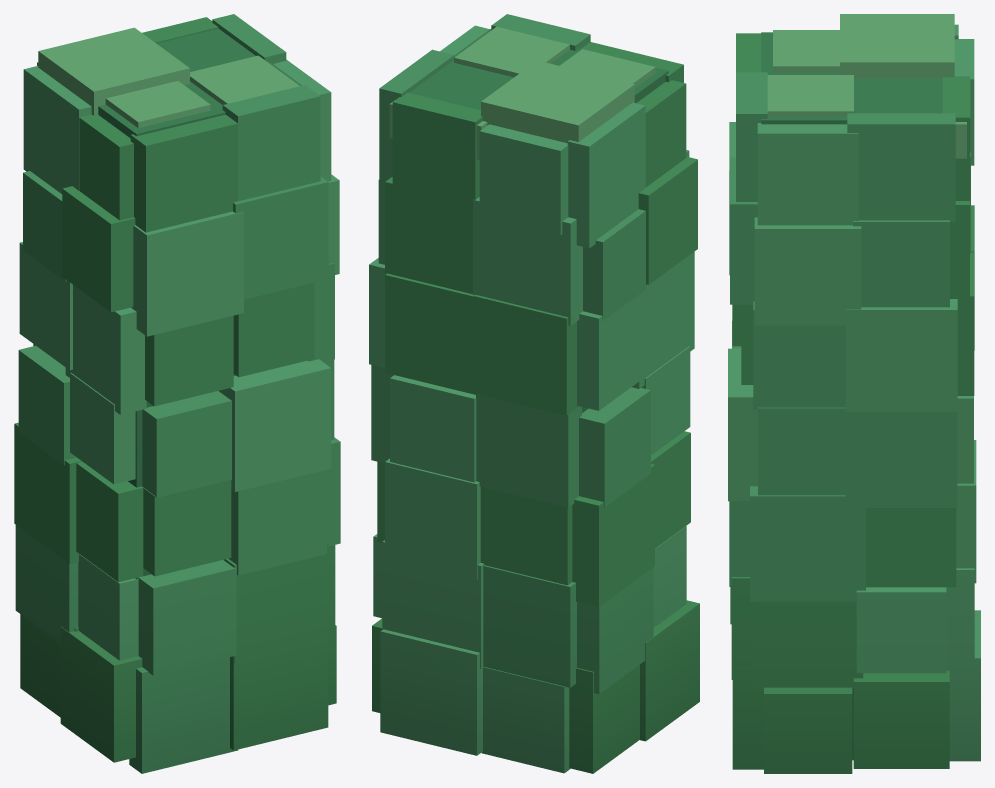
The model's file is hedge-post-h3.4.glb.
The picture shows the model from 3 angles, left to right: view 1: azimuth 30°, elevation 25°; view 2: azimuth 150°, elevation 25°; view 3: azimuth 270°, elevation 25°; orthographic projection. The views are drawn at different scales.
Parts seen in each view (by area): view 1: hedge-post-h3.4_body; view 2: hedge-post-h3.4_body; view 3: hedge-post-h3.4_body.
Part boxes in pixels (x1,y1,x2,y2): hedge-post-h3.4_body: (14,14,340,773); hedge-post-h3.4_body: (369,14,699,773); hedge-post-h3.4_body: (728,14,980,773).
Bounding box in the file's own units: 1.32 × 3.55 × 1.22.
